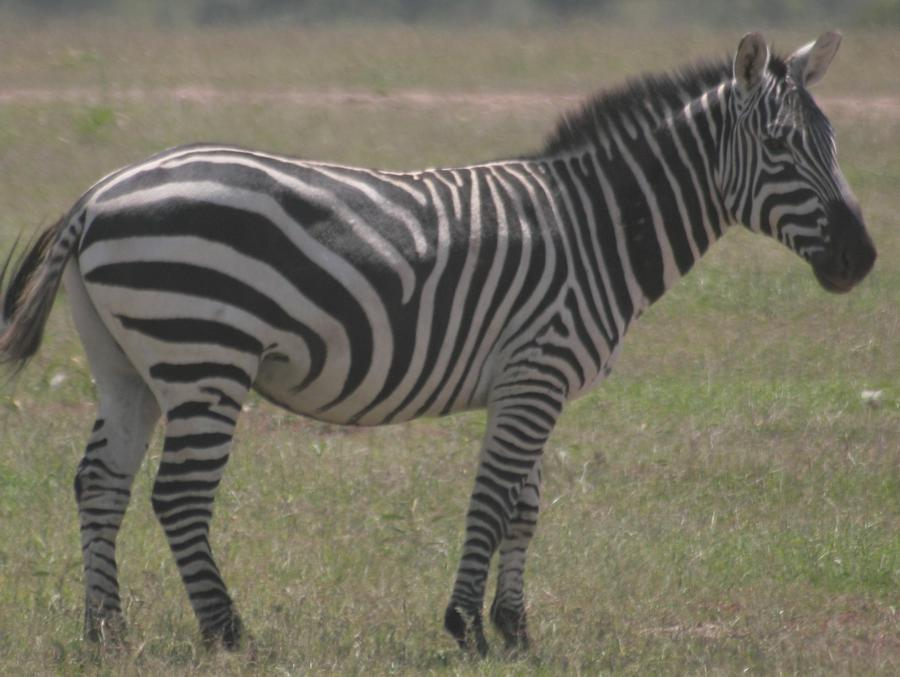zebra_plains: (122, 133, 646, 441)
